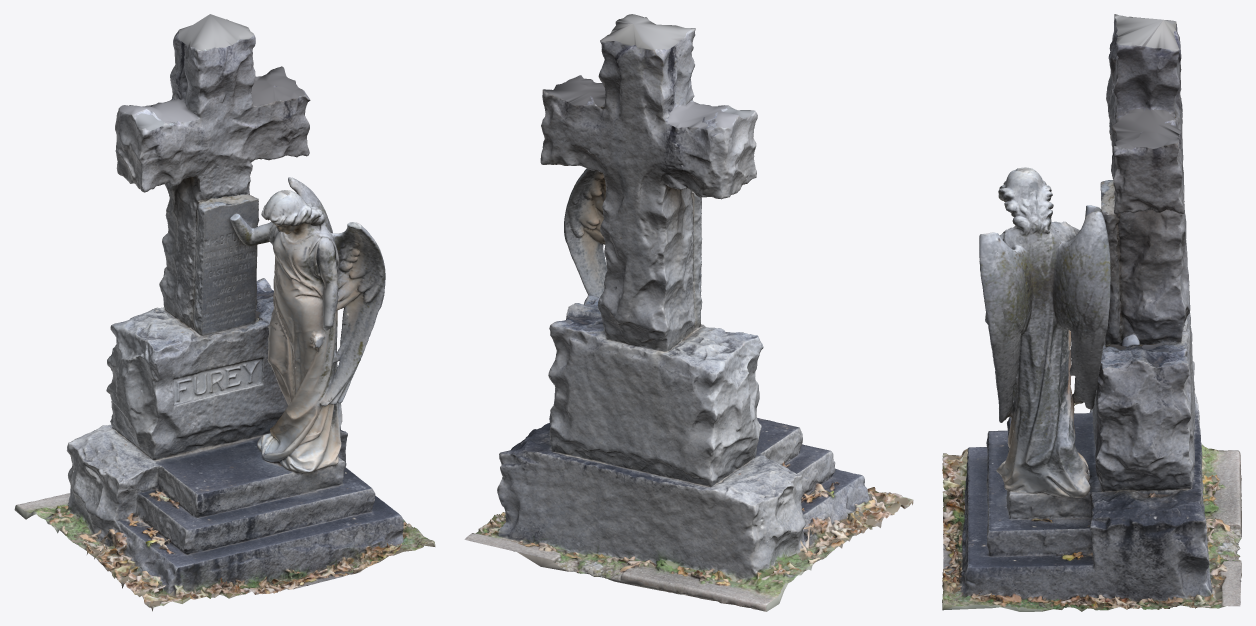
The model's file is cemetery_angel_-_furey.glb.
3 views of the same model, side by side, from view 1: azimuth 30°, elevation 25°; view 2: azimuth 150°, elevation 25°; view 3: azimuth 270°, elevation 25° (orthographic). The views are drawn at different scales.
Parts seen in each view (by area): view 1: default_0 (×3); view 2: default_0 (×3); view 3: default_0 (×3).
Boxes of the visible parts, bbox=[...] form: default_0 (×3): bbox=[14, 14, 435, 611]; default_0 (×3): bbox=[464, 14, 913, 611]; default_0 (×3): bbox=[942, 14, 1241, 611].
Bounding box in the file's own units: 1.65 × 2.76 × 1.4.
Materials: 1 (1 with a texture image).
